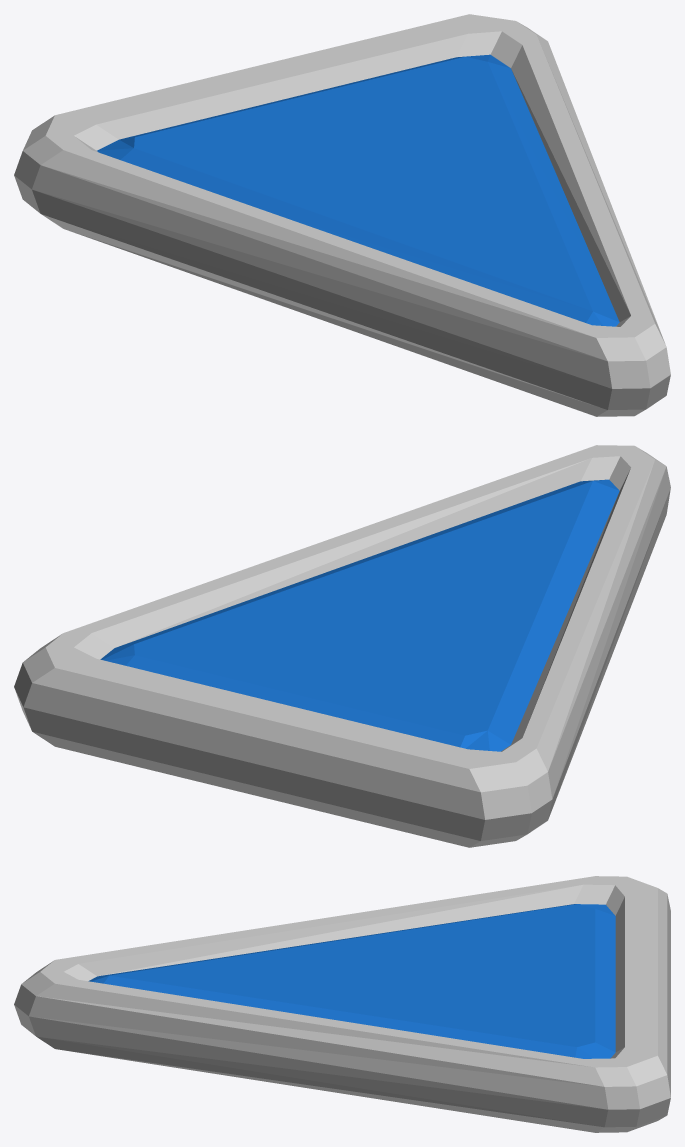
Rendered from SM_inflatable_triangle.fbx.
3 views of the same model, one above another, from view 1: azimuth 30°, elevation 25°; view 2: azimuth 150°, elevation 25°; view 3: azimuth 270°, elevation 25° (orthographic). The views are drawn at different scales.
Parts seen in each view (by area): view 1: Torus_5; view 2: Torus_5; view 3: Torus_5.
Boxes of the visible parts, x1,y1,x2,y2 form: Torus_5: (14, 14, 670, 416); Torus_5: (14, 445, 670, 847); Torus_5: (14, 876, 670, 1132).
Bounding box in the file's own units: 177 × 25.54 × 233.
